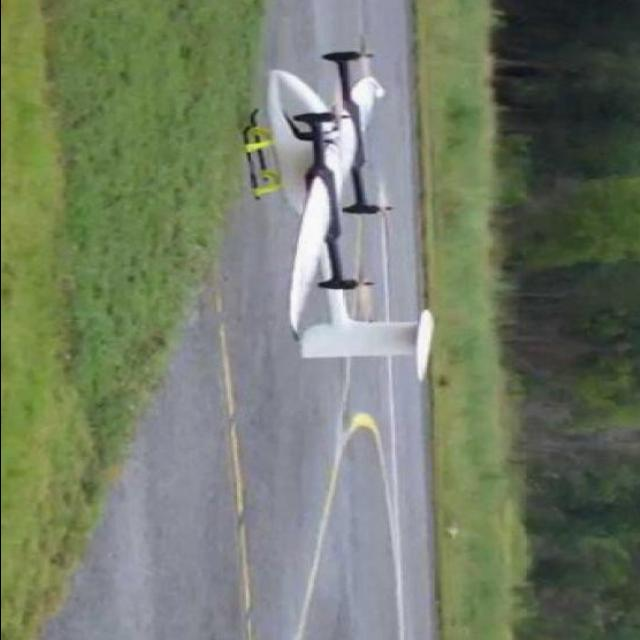plane: (240, 47, 437, 384)
